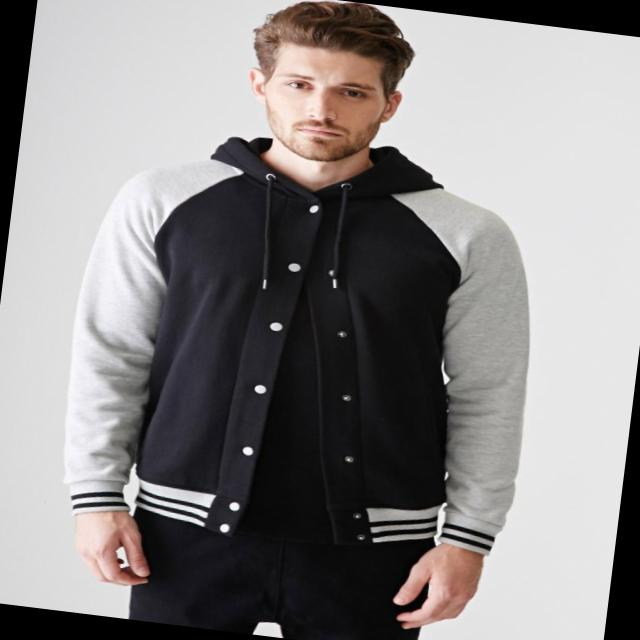Jacket: (43, 137, 560, 574)
